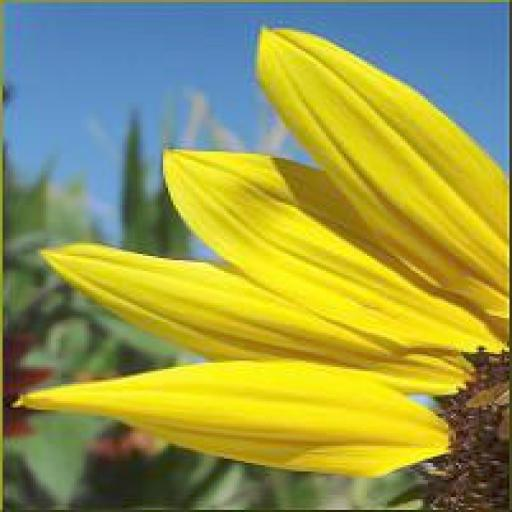sunflower: (28, 21, 512, 512)
